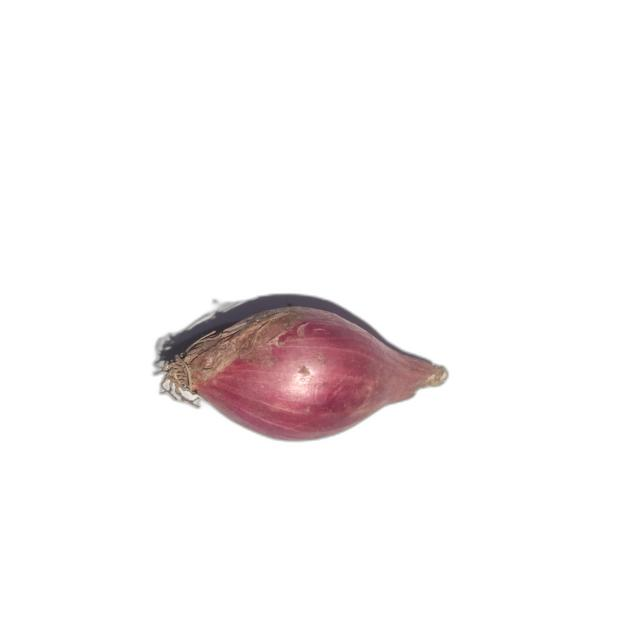onion: (159, 306, 449, 442)
